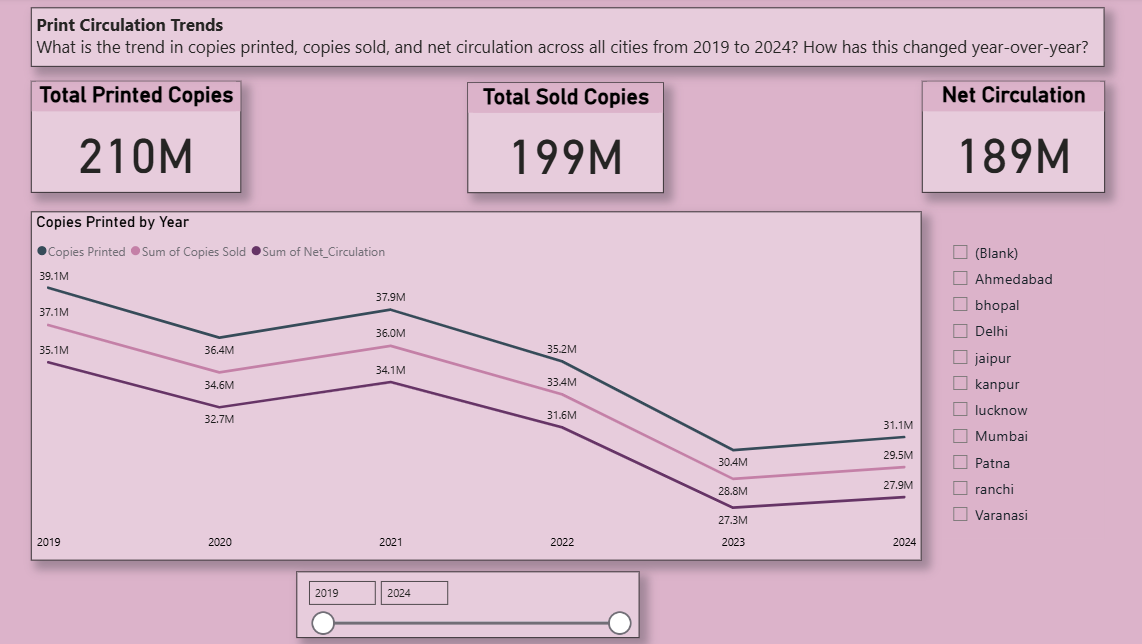

This screenshot's page, from the dashboard's own definition file:
{"tool":"powerbi","page":{"name":"Print Circulation Trends","canvas":[1280,720],"ordinal":0},"visuals":[{"type":"lineChart","title":"Copies Printed by Year","fields":{"Category":["dim_date.Year"],"Y":["fact_print_sales.Copies Printed","Sum(fact_print_sales.Copies Sold)","Sum(fact_print_sales.Net_Circulation)"]},"box":[50,236.7,983.3,385],"z":0},{"type":"card","title":"Total Copies Printed ","fields":{"Values":["fact_print_sales.Copies Printed"]},"box":[50,93.3,231.7,123.3],"z":1000},{"type":"card","title":"Total Copies Sold ","fields":{"Values":["Key Measures.Total Copies sold"]},"box":[531.7,95,216.7,121.7],"z":2000},{"type":"card","title":"Net Circulation","fields":{"Values":["Sum(fact_print_sales.Net_Circulation)"]},"box":[1033.3,93.3,201.7,123.3],"z":3000},{"type":"slicer","fields":{"Values":["dim_date.Year"]},"box":[343.3,635,378.3,73.3],"z":4000},{"type":"textbox","box":[50,11.7,1185,65],"z":5000},{"type":"slicer","fields":{"Values":["dim_city.city"]},"box":[1055.2,279.9,180.6,341.2],"z":6000}]}

Visuals, with their boxes in screenshot pixels (x1, y1, x2, y2), scaled from the page's 1280x720 canvas onto the 1142x644 screenshot:
"Copies Printed by Year" lineChart: pyautogui.locateOnScreen(45, 212, 922, 556)
"Total Copies Printed " card: pyautogui.locateOnScreen(45, 83, 251, 194)
"Total Copies Sold " card: pyautogui.locateOnScreen(474, 85, 668, 194)
"Net Circulation" card: pyautogui.locateOnScreen(922, 83, 1102, 194)
slicer - dim_date.Year: pyautogui.locateOnScreen(306, 568, 644, 634)
textbox: pyautogui.locateOnScreen(45, 10, 1102, 69)
slicer - dim_city.city: pyautogui.locateOnScreen(941, 250, 1103, 556)
